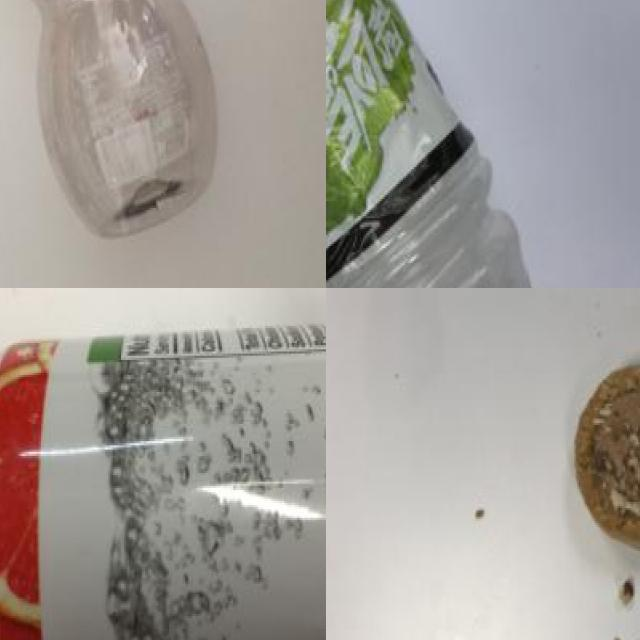compost: (551, 338, 640, 596)
plastic: (0, 330, 326, 640), (326, 0, 583, 288), (0, 0, 229, 240)
